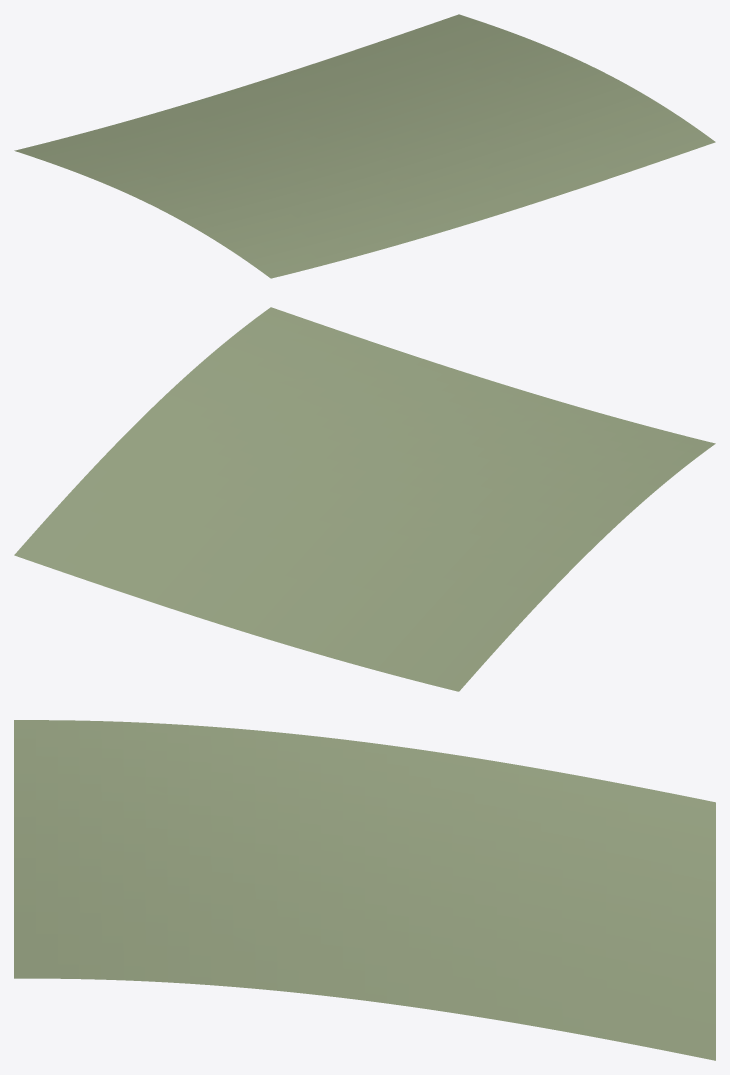
Rendered from valley-0-0.glb.
3 views of the same model, one above another, from view 1: azimuth 30°, elevation 25°; view 2: azimuth 150°, elevation 25°; view 3: azimuth 270°, elevation 25° (orthographic). The views are drawn at different scales.
Visible parts, largest first — view 1: valley-0-0; view 2: valley-0-0; view 3: valley-0-0.
Boxes of the visible parts, <box> form: valley-0-0: <box>14,14,715,278</box>; valley-0-0: <box>14,307,715,691</box>; valley-0-0: <box>14,720,715,1060</box>.
Size of the model in its own units: 256 by 48.44 by 256.
